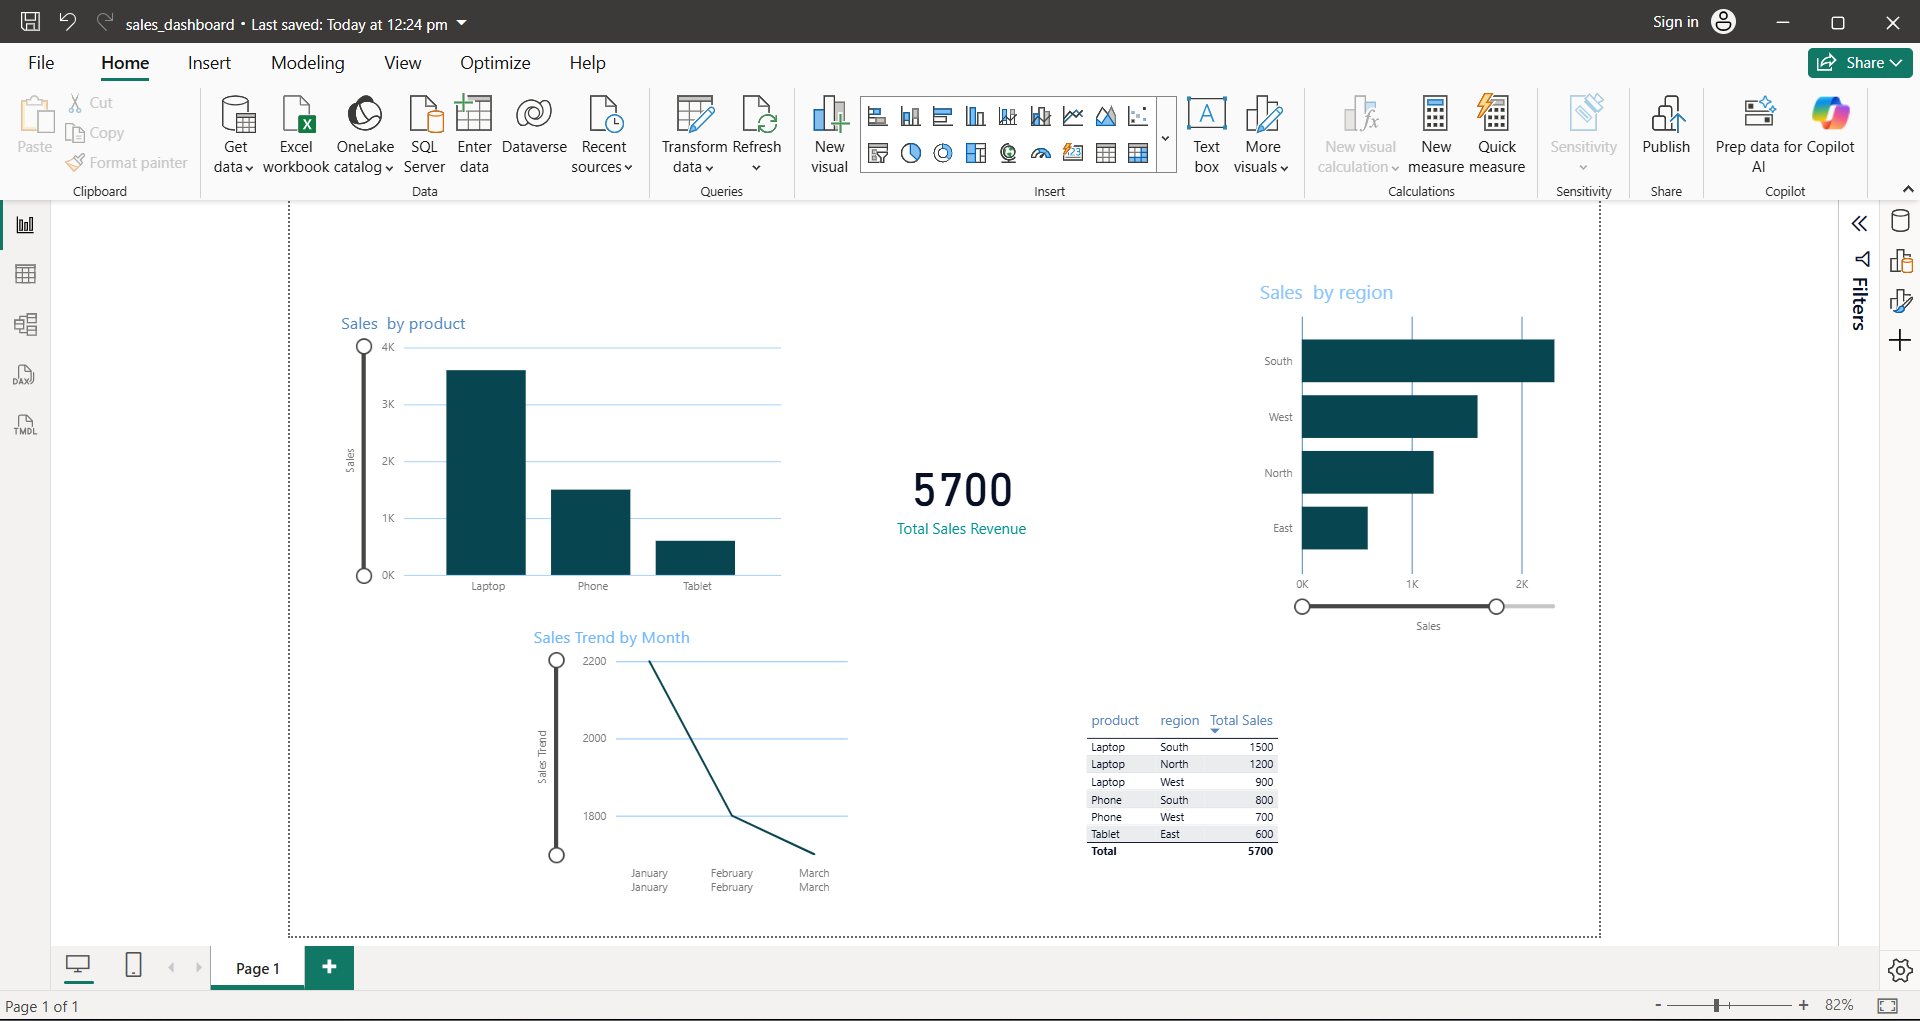

What the dashboard file says about the page in this screenshot:
{"tool":"powerbi","page":{"name":"Page 1","canvas":[1280,720],"ordinal":0},"visuals":[{"type":"card","fields":{"Values":["Sum(Sheet1.sales_amount)"]},"box":[485.5,143.1,343.6,289.8],"z":0},{"type":"clusteredBarChart","fields":{"Category":["Sheet1.region"],"Y":["Sum(Sheet1.sales_amount)"]},"box":[944,77,304.5,347.3],"z":1},{"type":"columnChart","fields":{"Category":["Sheet1.product"],"Y":["Sum(Sheet1.sales_amount)"]},"box":[45.2,108.8,440.2,286.1],"z":2},{"type":"lineChart","fields":{"Category":["Sheet1.order_date.Variation.Date Hierarchy.Year","Sheet1.order_date.Variation.Date Hierarchy.Quarter","Sheet1.order_date.Variation.Date Hierarchy.Month","Sheet1.order_date.Variation.Date Hierarchy.Day","Sheet1.order_date.Variation.Date Hierarchy.Month"],"Y":["Sum(Sheet1.sales_amount)"]},"box":[233.6,415.8,320.4,271.5],"z":3},{"type":"tableEx","fields":{"Values":["Sheet1.product","Sheet1.region","Sum(Sheet1.sales_amount)"]},"box":[772.8,492.8,206.7,161.4],"z":4}]}

Visuals, with their boxes on the page's 1280x720 design canvas (x1, y1, x2, y2). These are canvas units, not pixel positions in the 1920x1021 screenshot, which may show the page scaled, cropped or inside an application window:
card - Sum(Sheet1.sales_amount): l=486, t=143, r=829, b=433
clusteredBarChart - Sheet1.region x Sum(Sheet1.sales_amount): l=944, t=77, r=1248, b=424
columnChart - Sheet1.product x Sum(Sheet1.sales_amount): l=45, t=109, r=485, b=395
lineChart - Sheet1.order_date.Variation.Date Hierarchy.Year x Sheet1.order_date.Variation.Date Hierarchy.Quarter: l=234, t=416, r=554, b=687
tableEx - Sheet1.product x Sheet1.region: l=773, t=493, r=980, b=654
